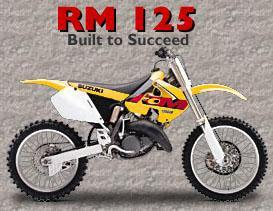motorcycle: (2, 40, 273, 208)
